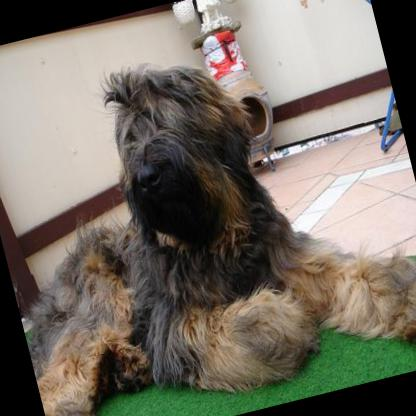briard: (0, 4, 416, 416)
